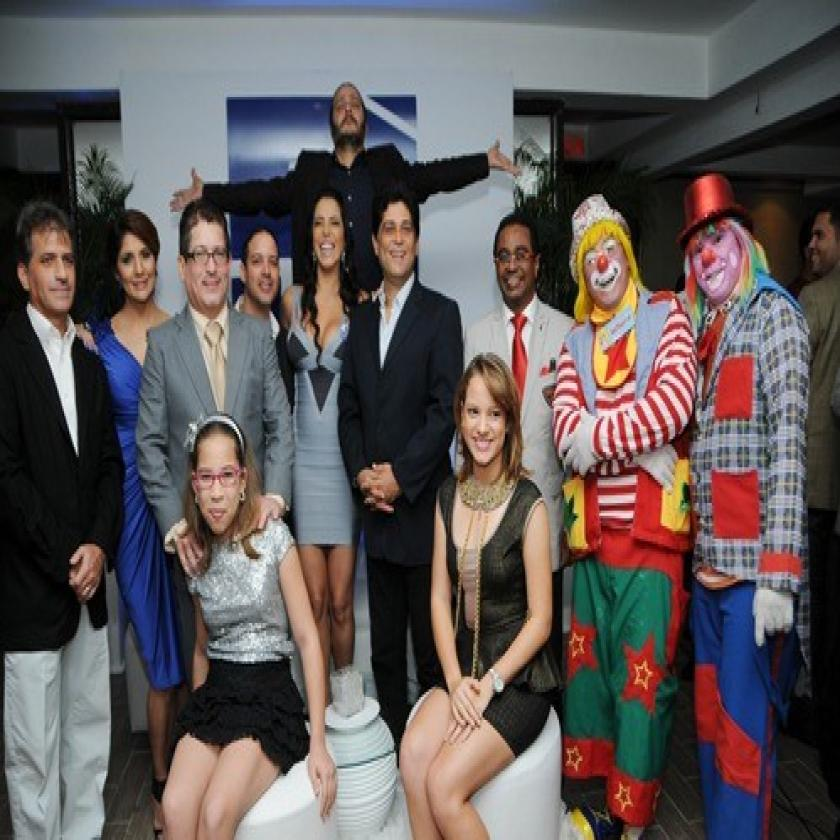Sin_casco: (453, 346, 524, 514), (179, 407, 256, 551), (19, 204, 82, 351), (492, 197, 546, 327), (178, 202, 234, 327), (106, 197, 162, 322), (371, 187, 421, 310), (305, 192, 354, 305), (322, 78, 373, 179), (242, 223, 285, 313), (802, 201, 840, 291)
